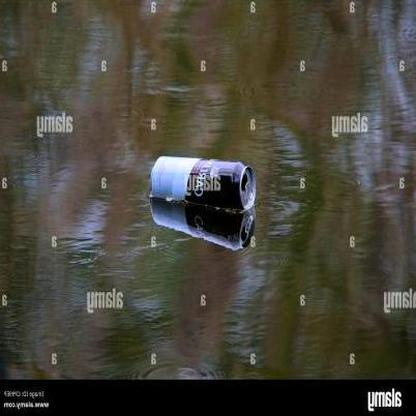can: (149, 154, 256, 212)
